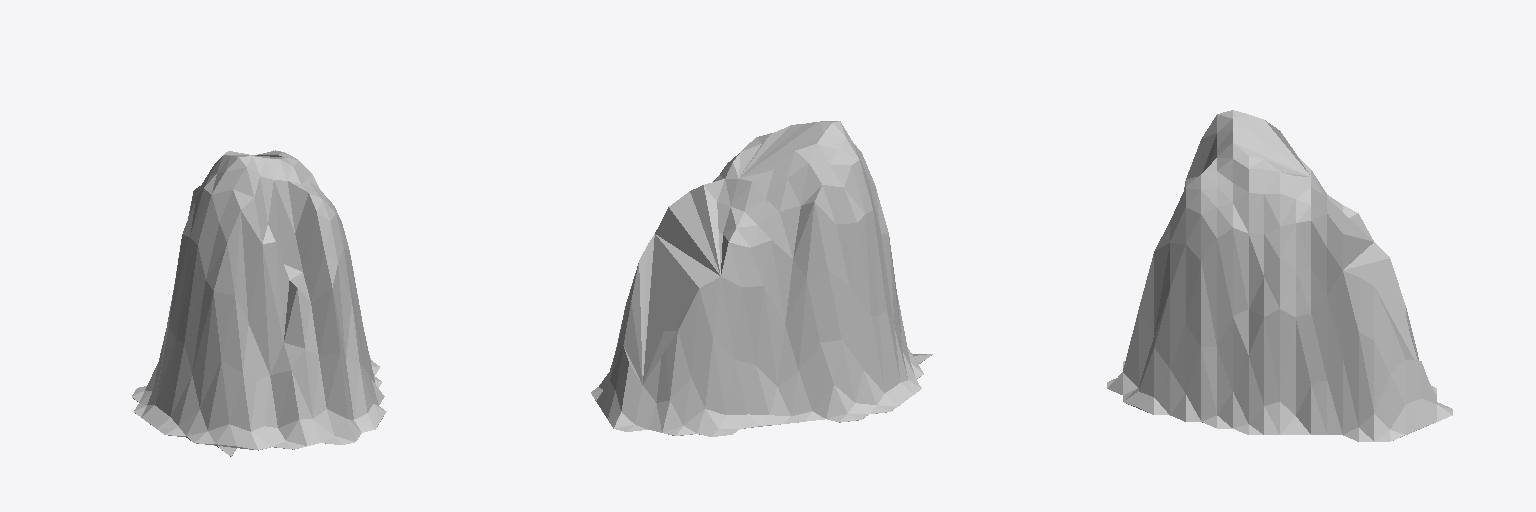
The model's file is tree_1.obj.
3 renders of one model, left to right at view 1: azimuth 30°, elevation 25°; view 2: azimuth 150°, elevation 25°; view 3: azimuth 270°, elevation 25°, orthographic.
Parts seen in each view (by area): view 1: tree_1_minus_dtm; view 2: tree_1_minus_dtm; view 3: tree_1_minus_dtm.
Part boxes in pixels (left/top/right/bottom): tree_1_minus_dtm: left=132, top=150, right=386, bottom=456; tree_1_minus_dtm: left=591, top=121, right=932, bottom=436; tree_1_minus_dtm: left=1107, top=110, right=1452, bottom=441.
Size of the model in its own units: 18 by 17.71 by 22.